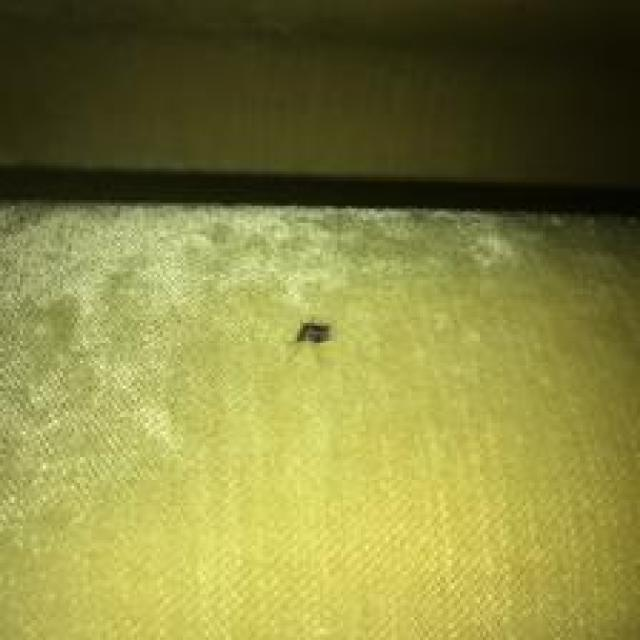Culex: (294, 320, 332, 346)
